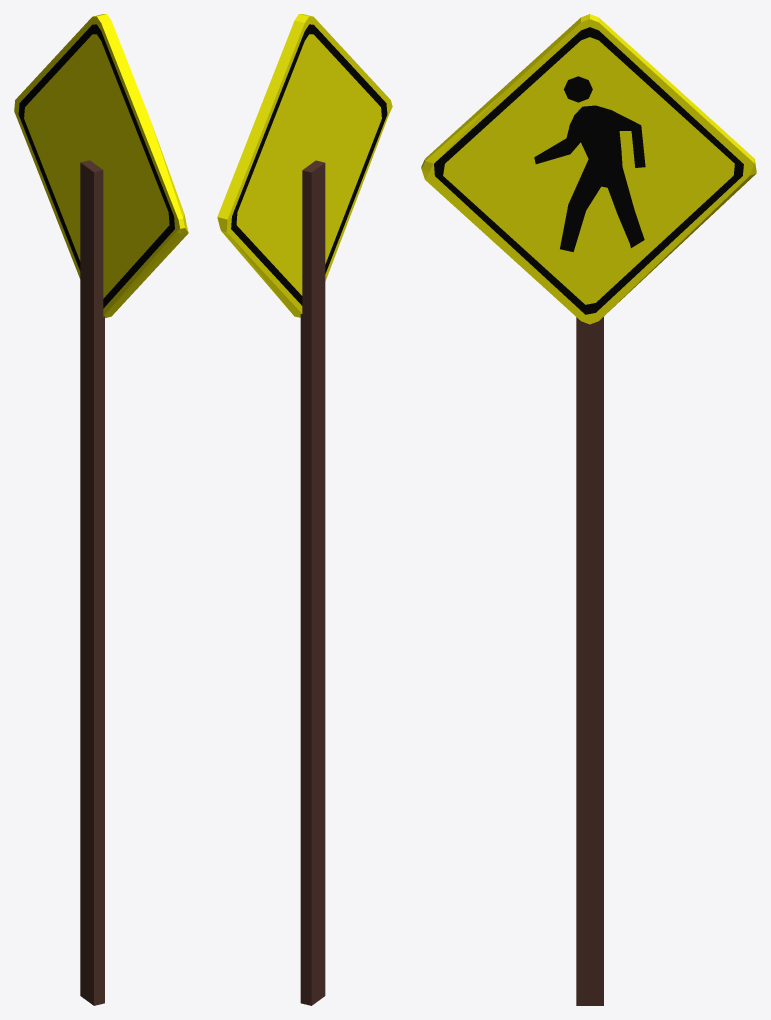
Rendered from Sign_Walking.fbx.
The picture shows the model from 3 angles, left to right: view 1: azimuth 30°, elevation 25°; view 2: azimuth 150°, elevation 25°; view 3: azimuth 270°, elevation 25°; orthographic projection.
Parts seen in each view (by area): view 1: SM_Sign_Walking_01.mo; view 2: SM_Sign_Walking_01.mo; view 3: SM_Sign_Walking_01.mo.
Part boxes in pixels (box(x1,y1,x2,y2)): SM_Sign_Walking_01.mo: box(14, 14, 188, 1005); SM_Sign_Walking_01.mo: box(217, 14, 392, 1005); SM_Sign_Walking_01.mo: box(421, 14, 756, 1005).
Bounding box in the file's own units: 4.96 × 236 × 72.47.
